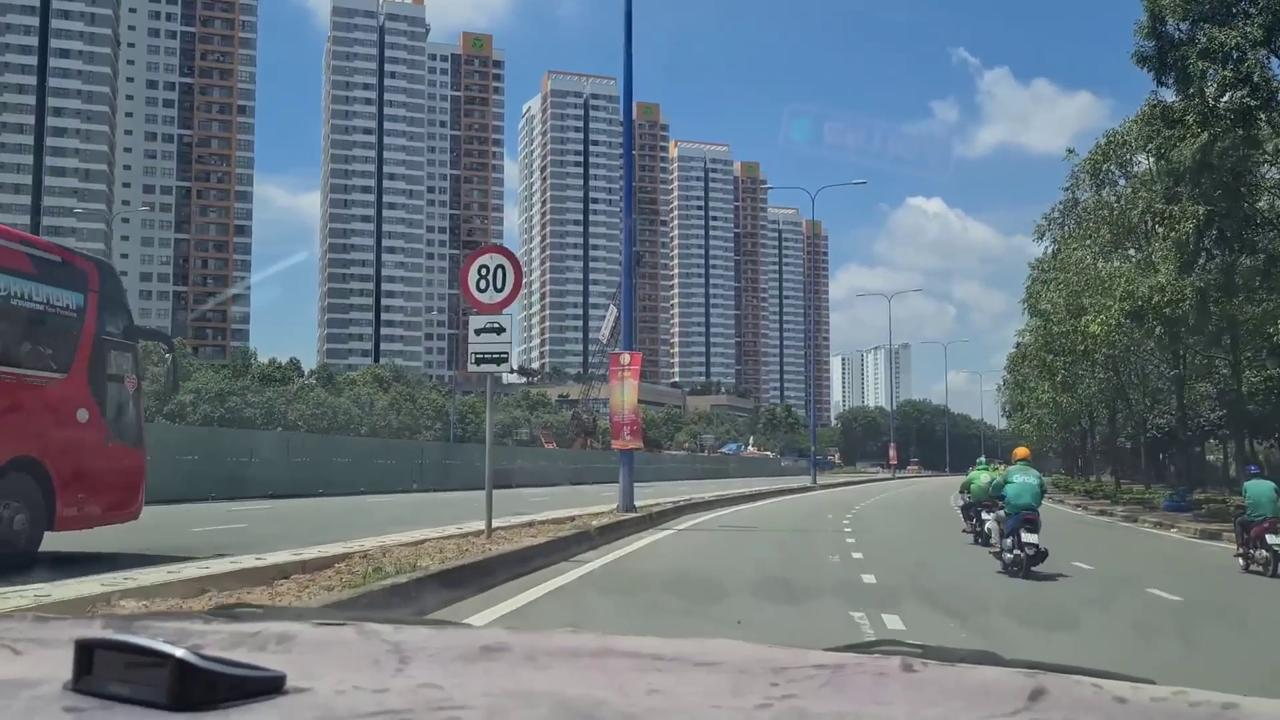Biển phụ: (466, 314, 513, 374)
Giới hạn tốc độ 80Km/h: (458, 242, 524, 316)
